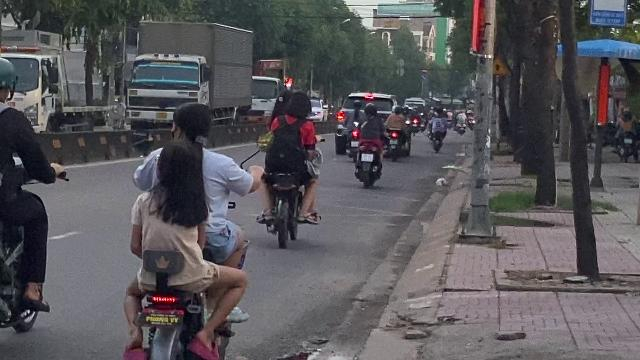motorcyclist: (115, 100, 257, 358), (252, 78, 324, 248)
nohelmet: (152, 140, 208, 220), (171, 102, 213, 141), (283, 90, 313, 120)
